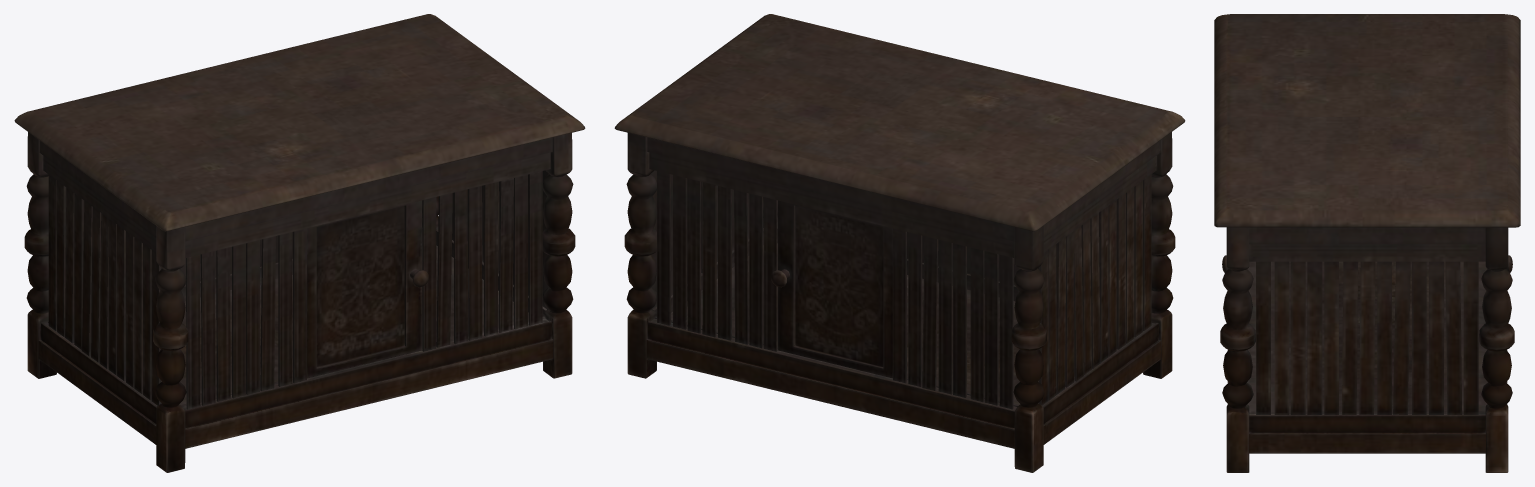
The model's file is gallinera_table.glb.
3 renders of one model, left to right at view 1: azimuth 30°, elevation 25°; view 2: azimuth 150°, elevation 25°; view 3: azimuth 270°, elevation 25°, orthographic.
Visible parts, largest first — view 1: gallinera_table, gallinera_table_door_a; view 2: gallinera_table, gallinera_table_door_b; view 3: gallinera_table.
Boxes of the visible parts, x1=… form: gallinera_table: x1=14, y1=14, x2=585, y2=472; gallinera_table_door_a: x1=307, y1=200, x2=428, y2=378; gallinera_table: x1=614, y1=14, x2=1185, y2=472; gallinera_table_door_b: x1=771, y1=200, x2=892, y2=378; gallinera_table: x1=1214, y1=14, x2=1520, y2=472.
Bounding box in the file's own units: 0.8301 × 0.4878 × 0.5183.
Materials: 1 (1 with a texture image).
